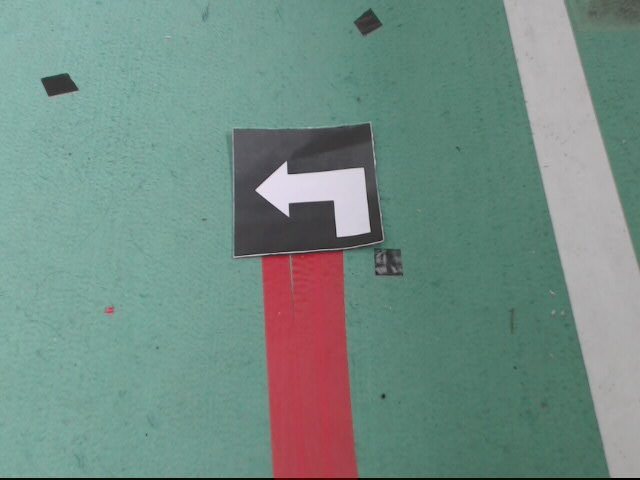left: (231, 124, 383, 258)
